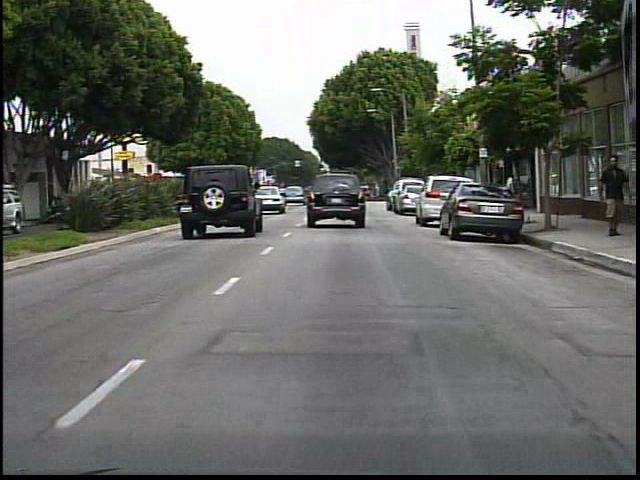person: (594, 151, 633, 241), (501, 164, 523, 218)
